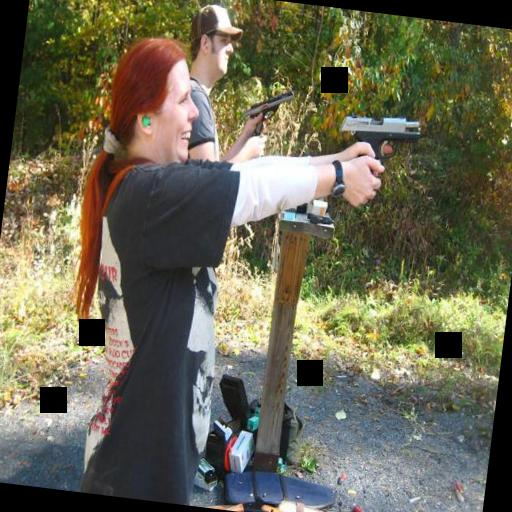Handgun: (334, 104, 424, 180), (235, 80, 298, 146)
